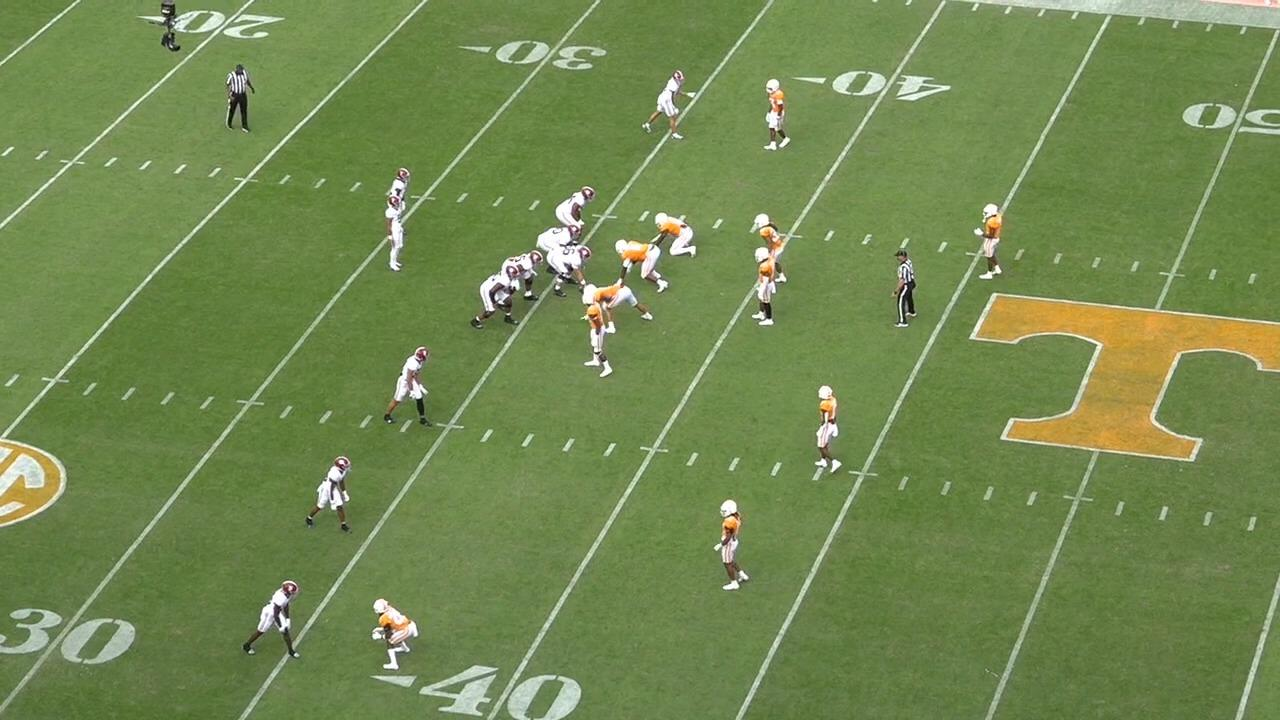player: (243, 578, 308, 666), (378, 341, 434, 428), (300, 454, 354, 538), (580, 285, 655, 338), (368, 594, 417, 674), (644, 67, 696, 141), (714, 500, 753, 598), (582, 282, 618, 379), (474, 263, 526, 329), (617, 239, 673, 295), (813, 380, 846, 474), (747, 212, 784, 292), (973, 199, 1008, 282), (498, 249, 545, 306), (746, 246, 775, 333), (534, 223, 583, 273), (546, 246, 593, 298), (654, 208, 702, 258), (762, 75, 792, 155), (377, 197, 404, 275), (553, 184, 596, 230), (382, 168, 406, 248)
ref: (891, 249, 921, 336), (218, 63, 252, 137)
